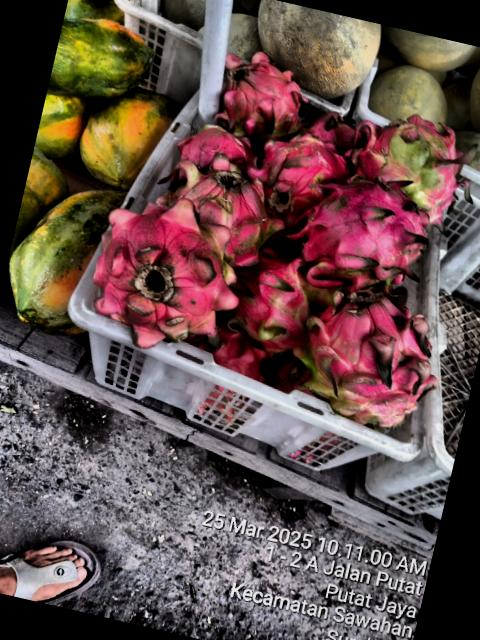buah-naga-belum-matang: (282, 268, 452, 441), (340, 103, 480, 225), (157, 154, 298, 268)
buah-naga-matang: (72, 180, 250, 352), (290, 172, 431, 296), (204, 246, 330, 362), (206, 41, 318, 141), (252, 124, 346, 214), (167, 112, 263, 184), (304, 101, 370, 159)
